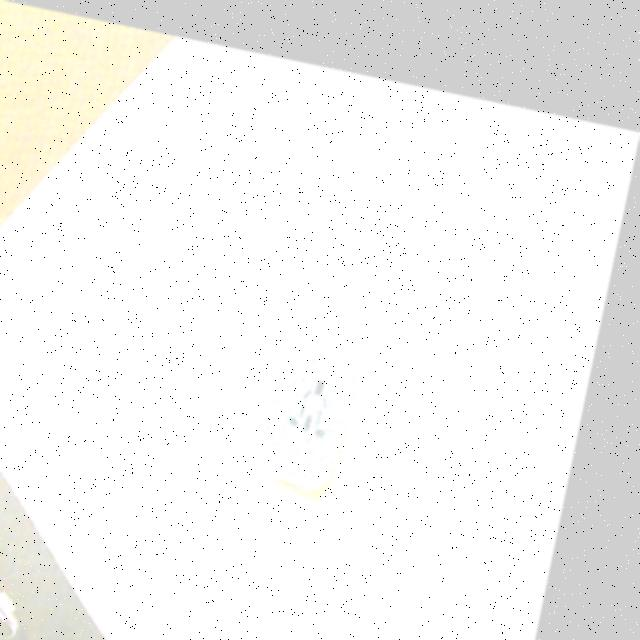adapter: (271, 341, 372, 479)
